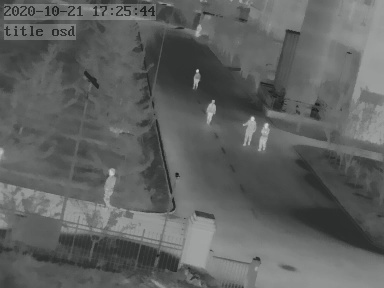person: (101, 165, 117, 213), (243, 116, 256, 148), (257, 123, 270, 151), (203, 98, 214, 125), (191, 69, 200, 90), (194, 23, 201, 38)
